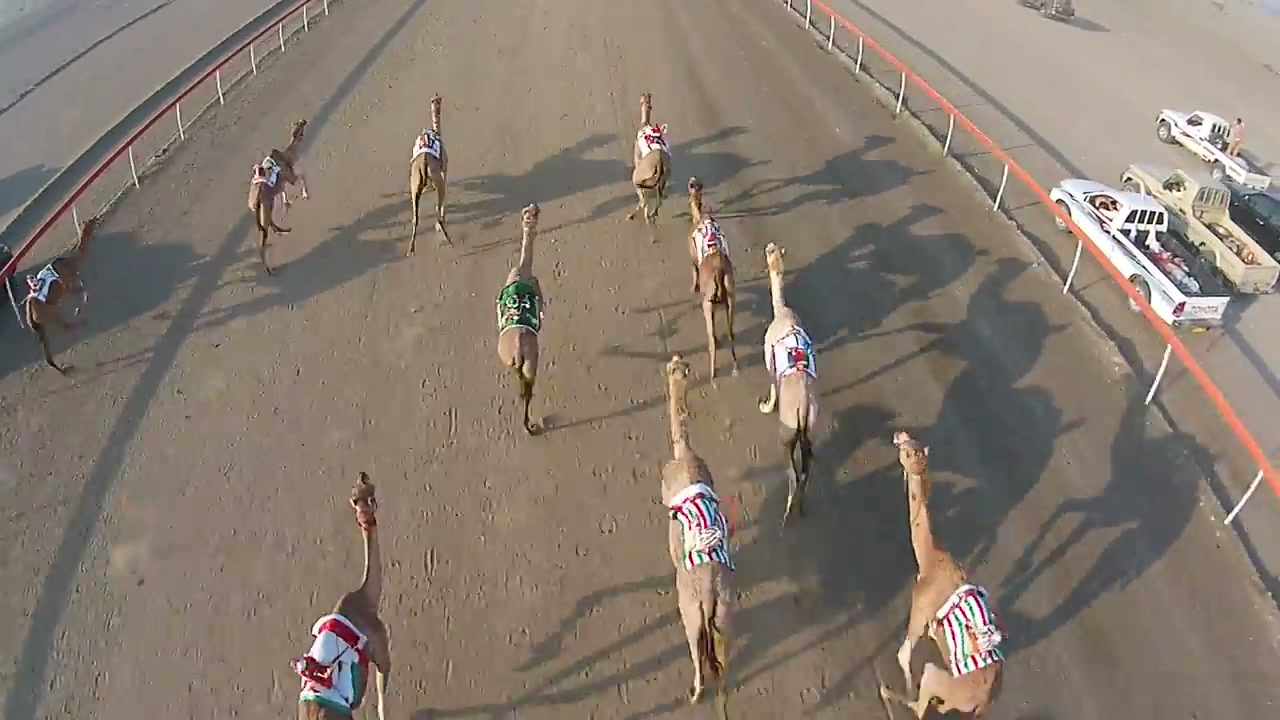animal_footprint: (404, 298, 542, 719), (551, 238, 655, 711)
